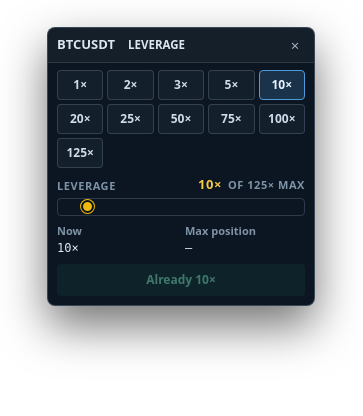
Scenario: FuturesLeverageEditor › stays open and says so when the change never reached the backend
Click the button "20×": (80, 119) [57,104,103,134]
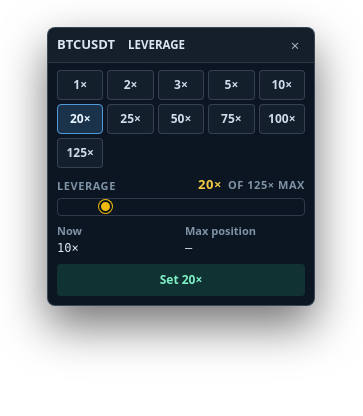
Click the button "Set 20×": (181, 280) [57,264,305,296]
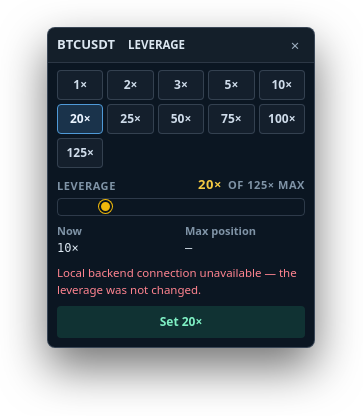
Result: the message shows "the leverage was not changed" at [57,265,297,297]
